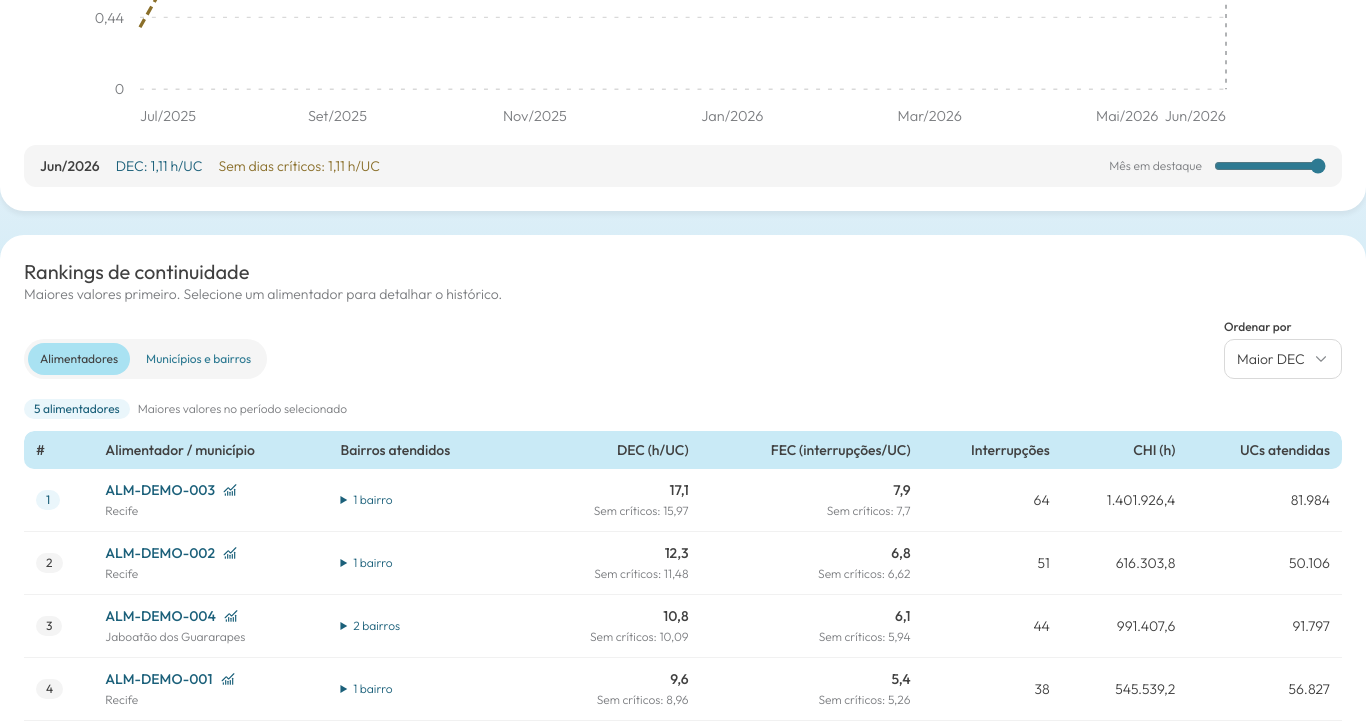
Test: Tela 6 — Operação › consulta ranking de bairros e abre seus alimentadores mantendo o recorte
(page scrolled)
Click the button "Municípios e bairros".
click(199, 359)  # box [134,343,263,375]
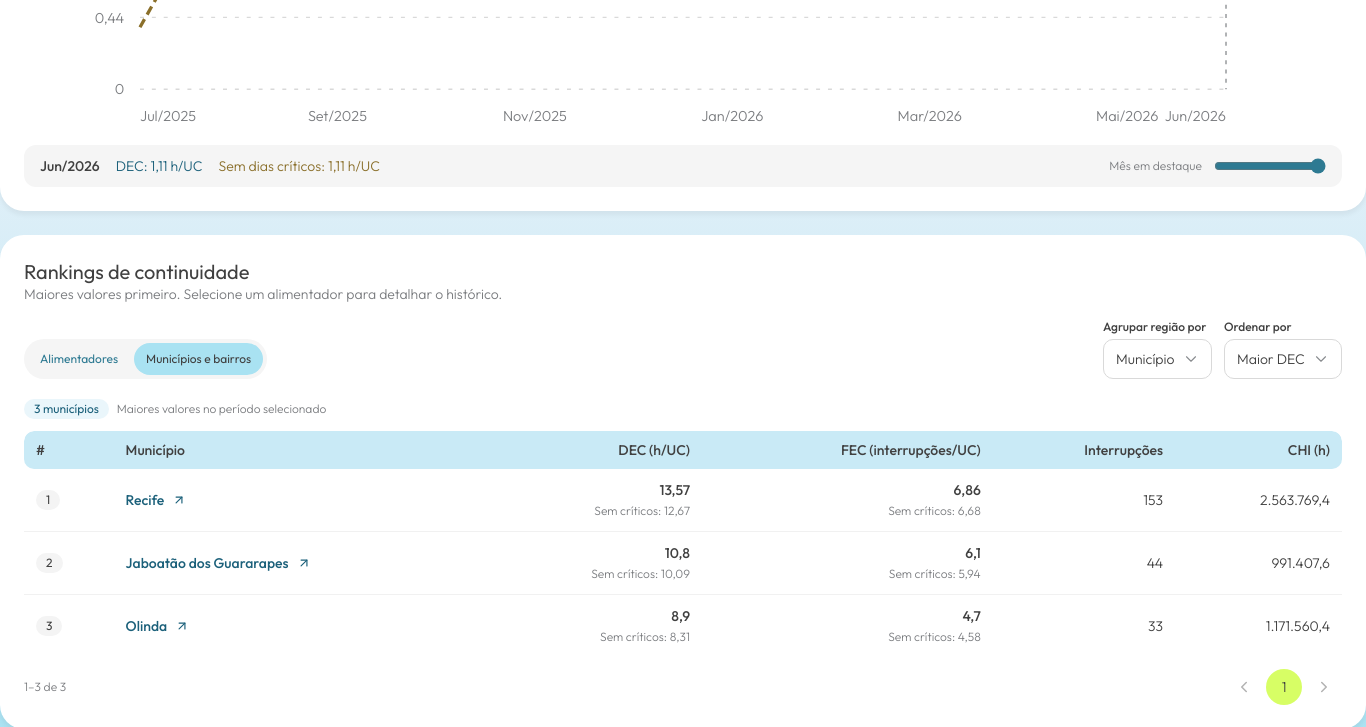
Select "Bairro" in the dropdown labelled "Agrupar região por" at (1158, 359), box [1103,339,1212,379]
(page scrolled)
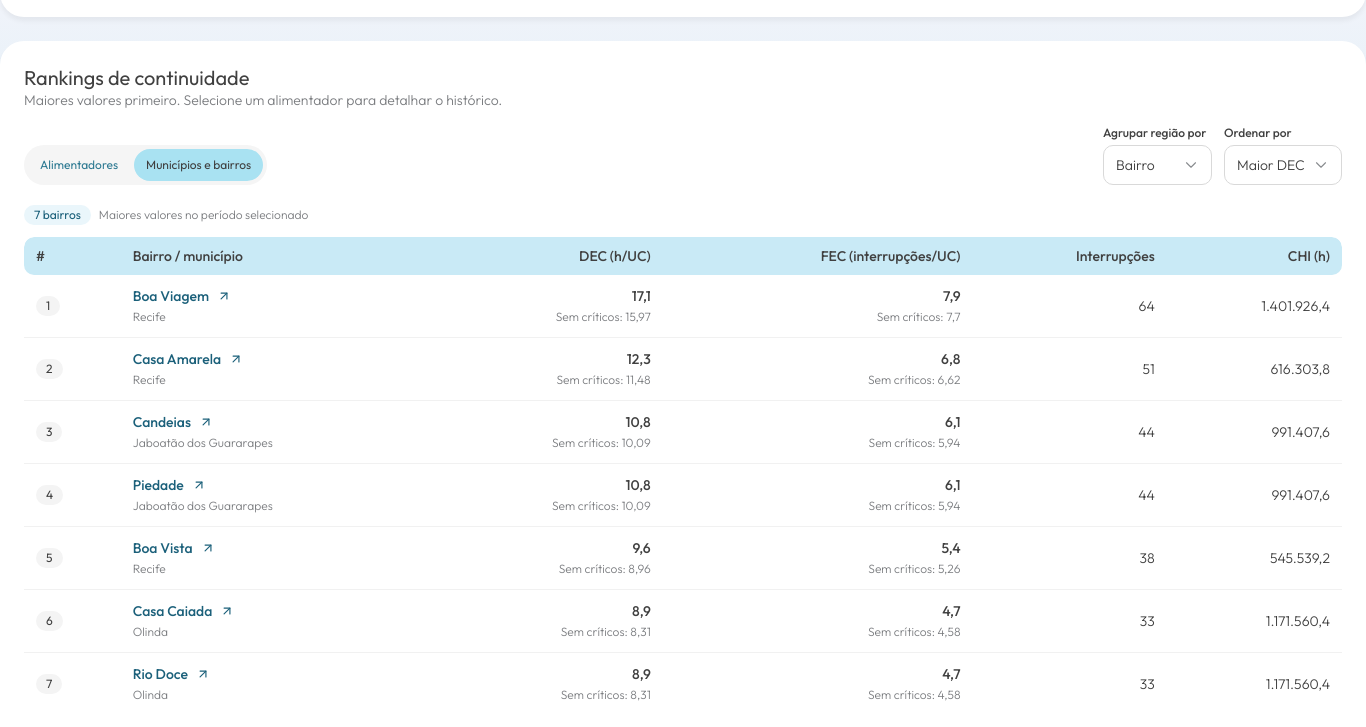
Click the button with aria-label "Ver alimentadores de Casa Amarela".
click(188, 359)  # box [133,350,243,368]
(page scrolled)
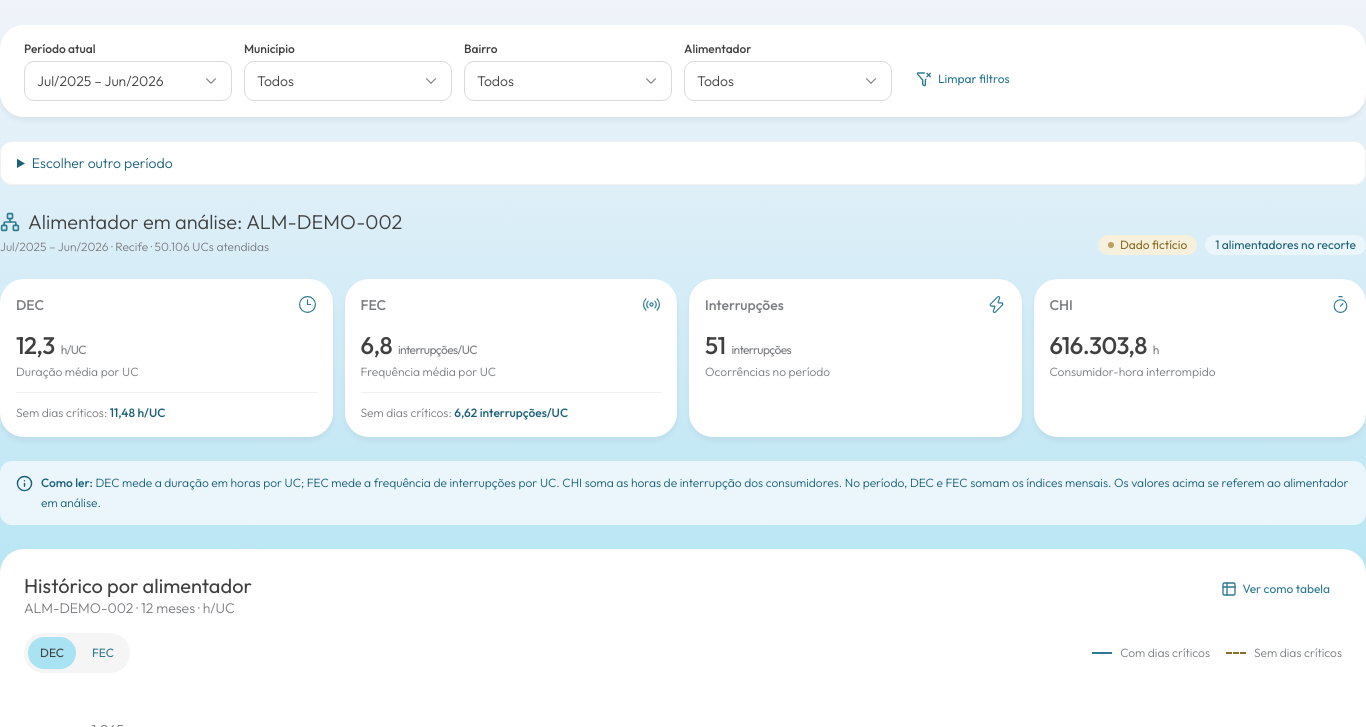
Result: the element named "Indicadores de ALM-DEMO-002" is shown at [0,279,1365,437]
